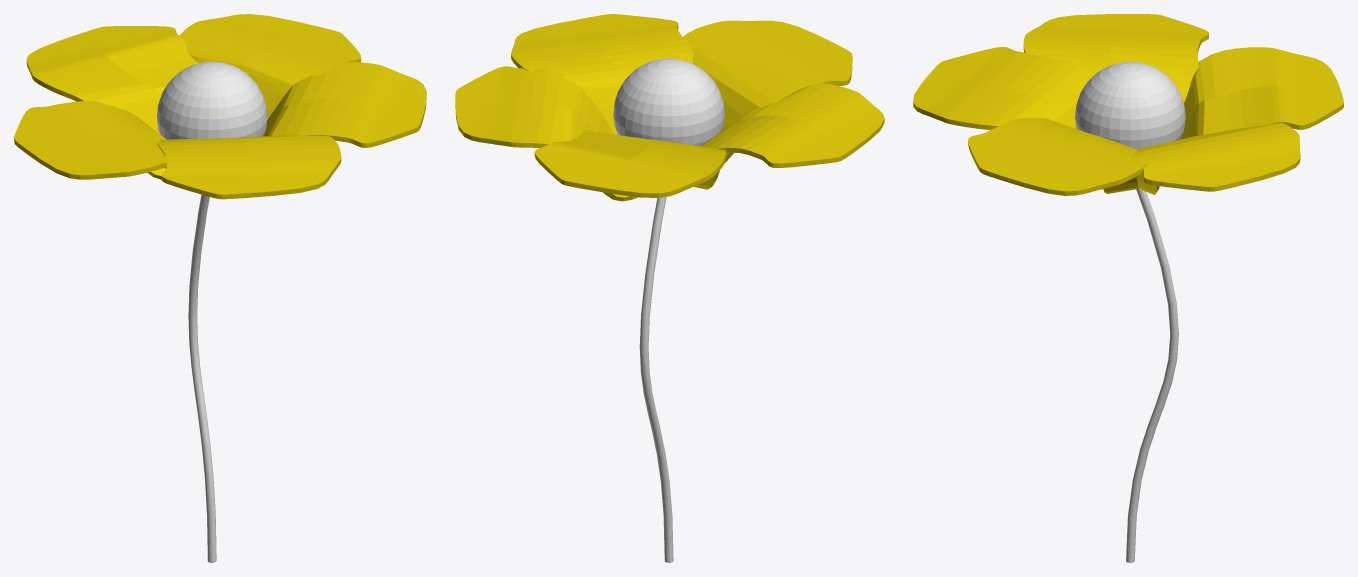
Rendered from flower.fbx.
The picture shows the model from 3 angles, left to right: view 1: azimuth 30°, elevation 25°; view 2: azimuth 150°, elevation 25°; view 3: azimuth 270°, elevation 25°; orthographic projection.
Visible parts, largest first — view 1: Plane, Plane.002, Plane.003, Plane.004, Plane.001, Sphere, BézierCurve; view 2: Plane.003, Plane.002, Plane.001, Plane.004, Plane, Sphere, BézierCurve; view 3: Plane, Plane.003, Plane.002, Plane.004, Plane.001, Sphere, BézierCurve.
Boxes of the visible parts, x1,y1,x2,y2 form: Plane: (26, 26, 198, 179); Plane.002: (263, 61, 426, 147); Plane.003: (157, 135, 341, 199); Plane.004: (14, 101, 168, 179); Plane.001: (179, 14, 361, 119); Sphere: (157, 61, 267, 139); BézierCurve: (188, 194, 216, 562); Plane.003: (683, 20, 852, 163); Plane.002: (511, 14, 693, 134); Plane.001: (455, 66, 637, 201); Plane.004: (701, 82, 884, 167); Plane: (534, 130, 726, 197); Sphere: (613, 58, 724, 145); BézierCurve: (639, 197, 673, 562); Plane: (1181, 47, 1343, 139); Plane.003: (913, 47, 1102, 189); Plane.002: (968, 118, 1159, 195); Plane.004: (1023, 14, 1208, 102); Plane.001: (1103, 123, 1300, 193); Sphere: (1075, 61, 1185, 149); BézierCurve: (1126, 189, 1178, 562).
Bounding box in the file's own units: 1096 × 1422 × 1123.
